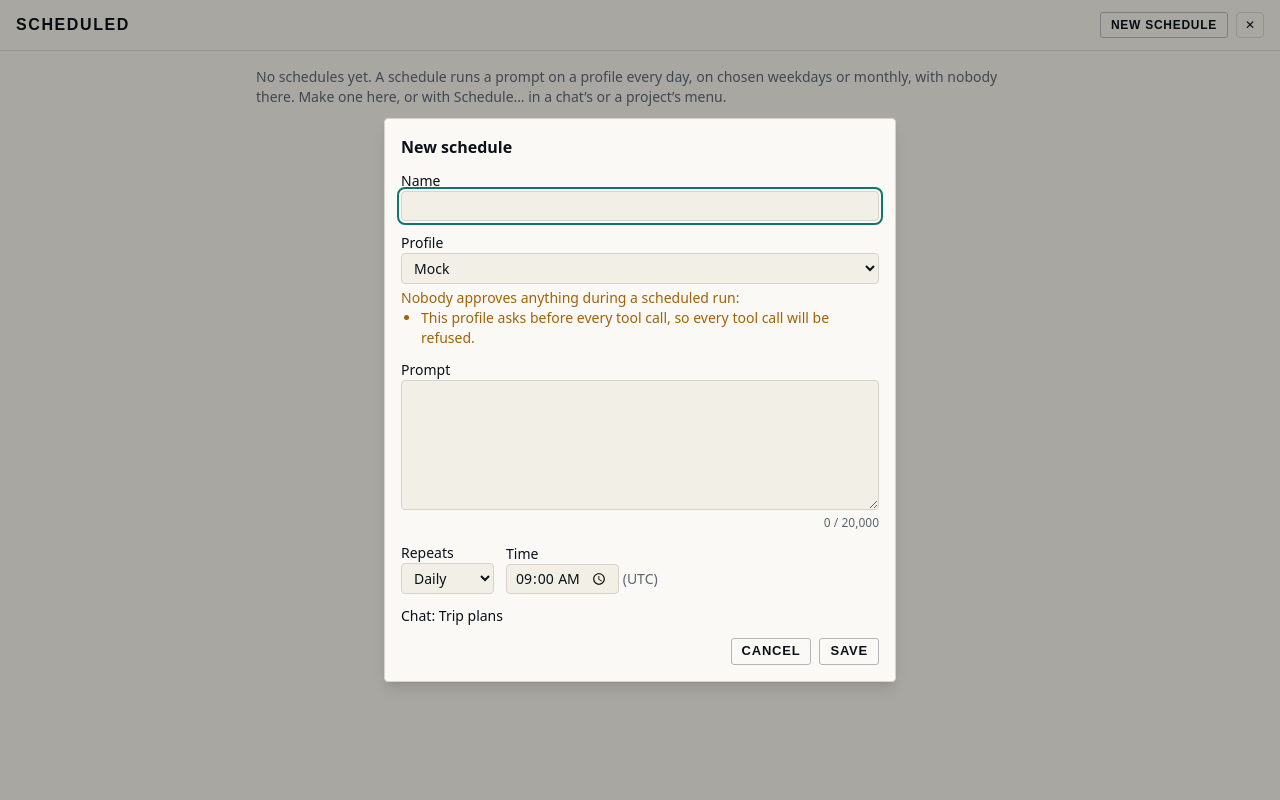
SchedulesView › opens the editor on its prefilled chat, with the profile warnings, and saves a new schedule
This screenshot has width=1280, height=800.
Expected: the dialog "New schedule" shows "Chat: Trip plans", [401, 606, 503, 625]
Expected: the dialog "New schedule" shows "This profile asks before every tool call, so every tool call will be refused.", [421, 308, 829, 347]
Type "Weekly report" into the field labelled "Name" at (640, 206), box [401, 191, 879, 221]
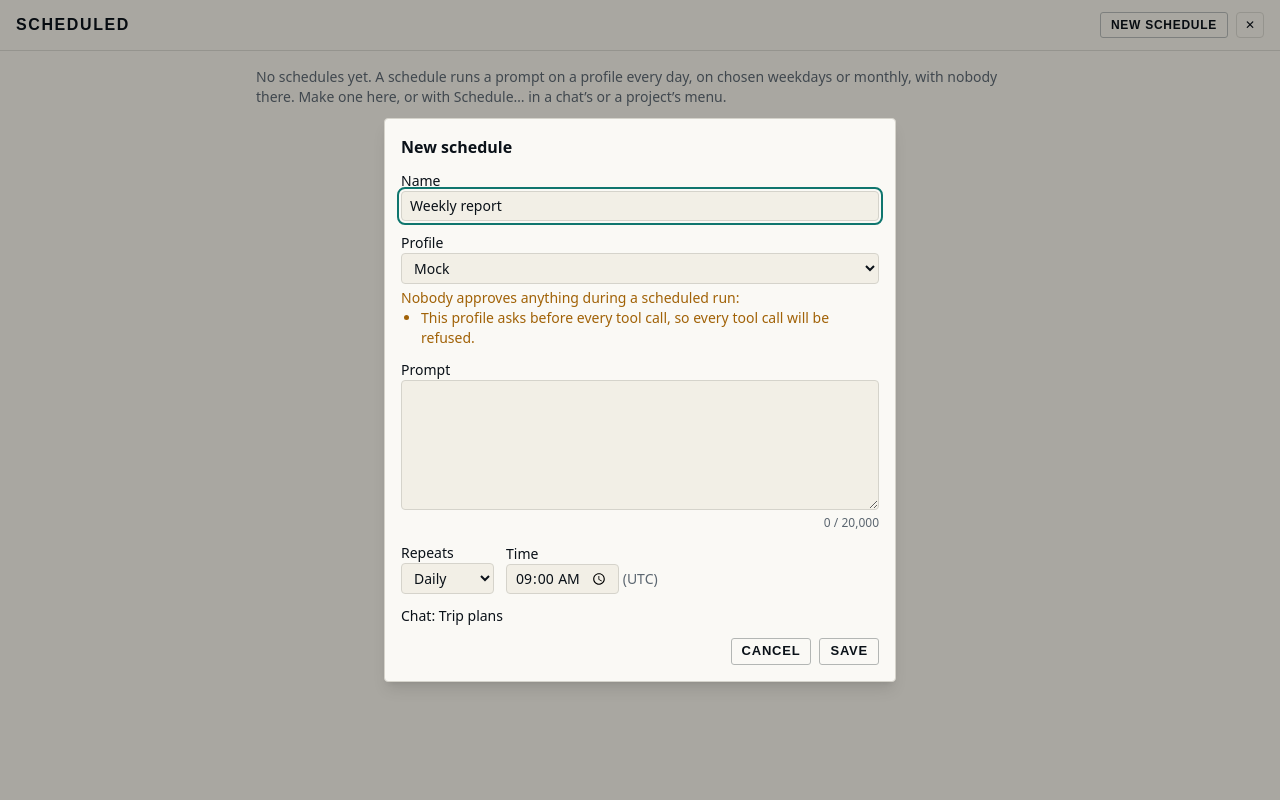
Type "hello" into the text box labelled "Prompt" at (640, 445), box [401, 380, 879, 510]
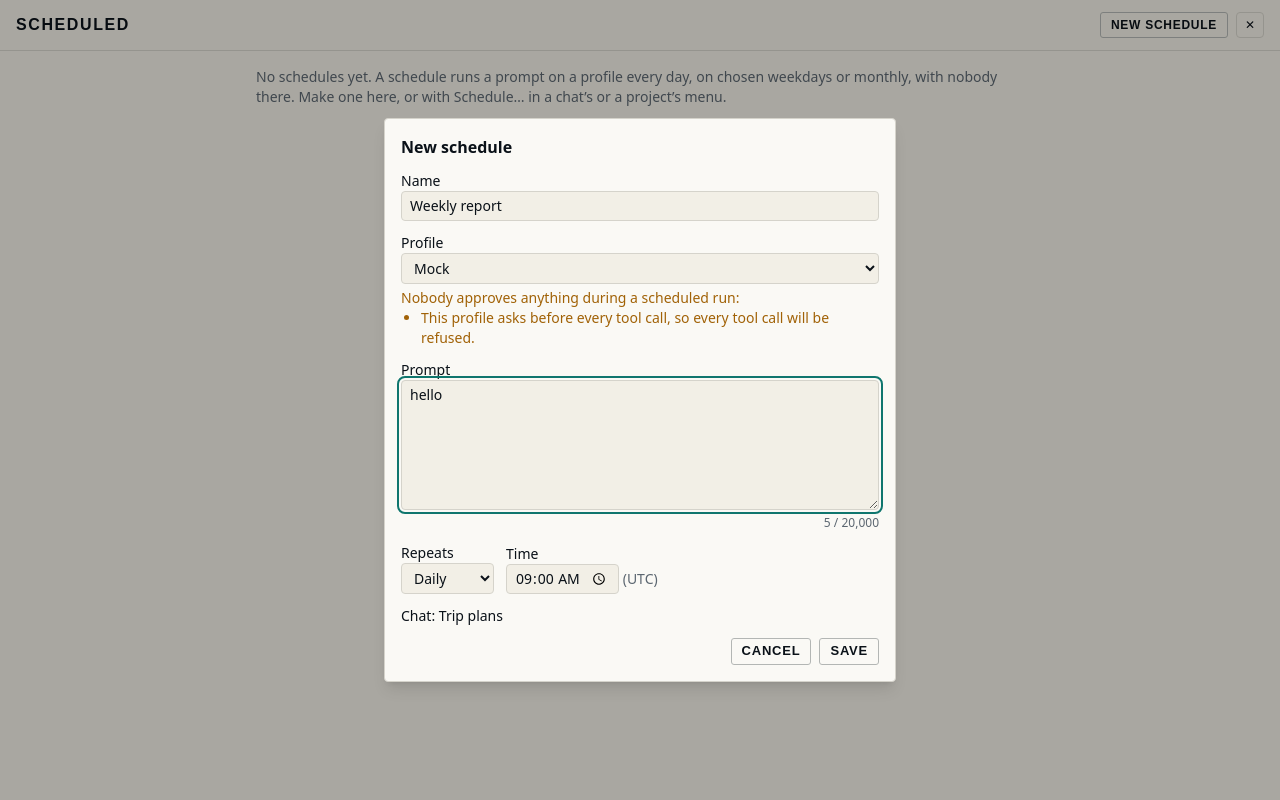
Click the button "Save" at (849, 652), box [819, 638, 879, 665]
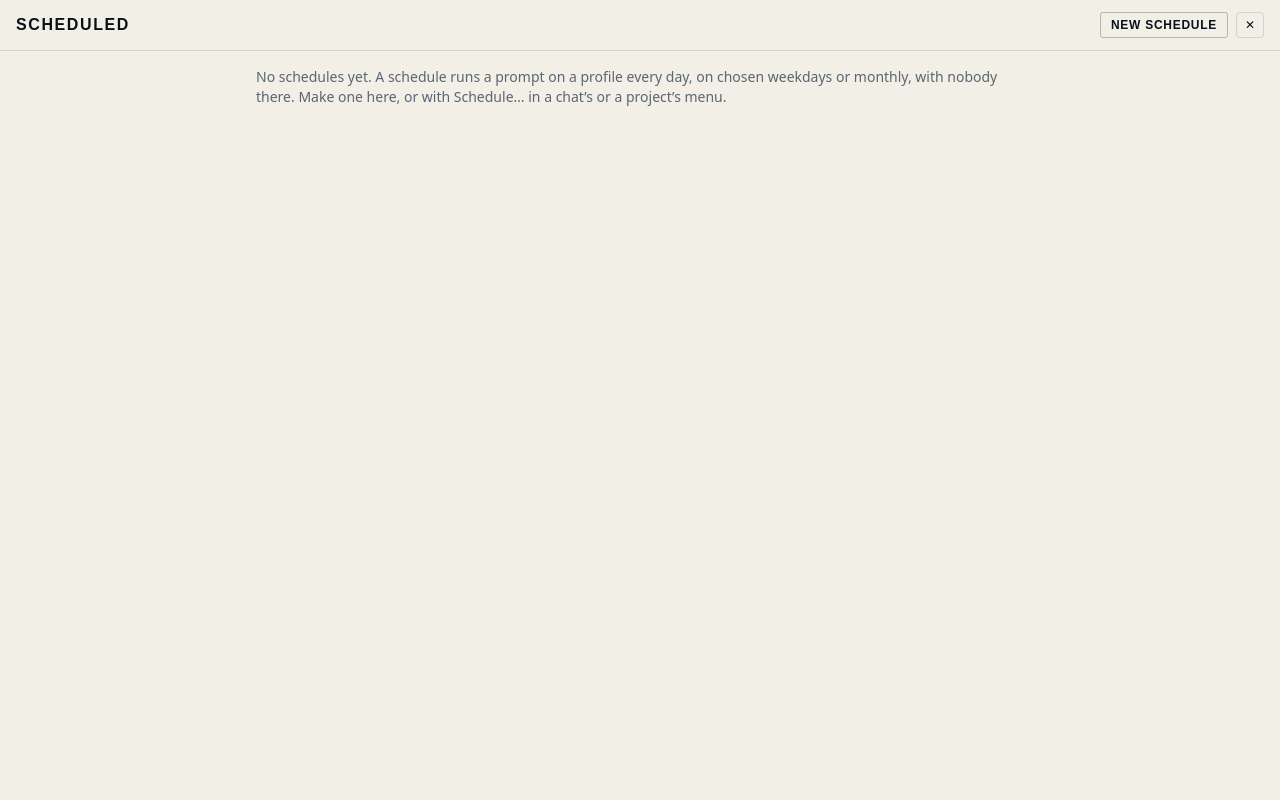
Expected: the dialog is gone
